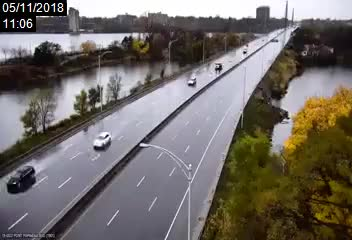personal_car: (5, 165, 36, 192), (93, 132, 111, 149), (213, 62, 224, 72), (187, 77, 197, 87)
